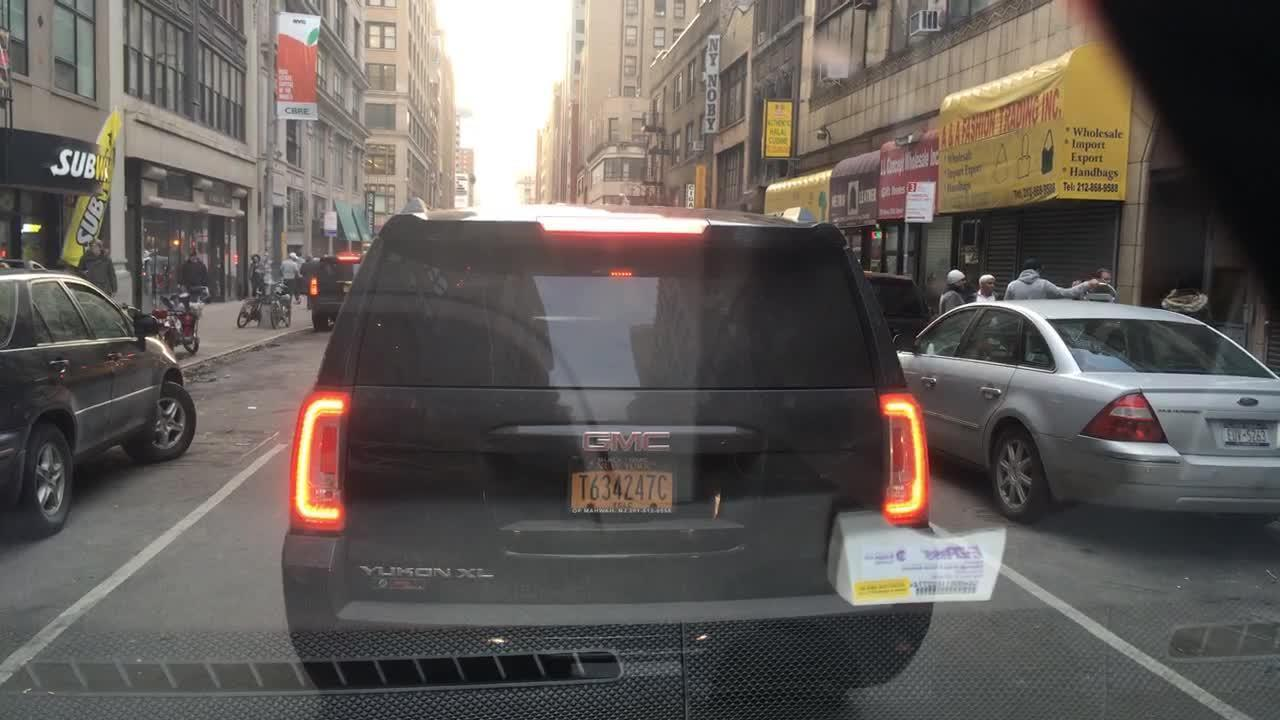GMC: (566, 413, 707, 467)
